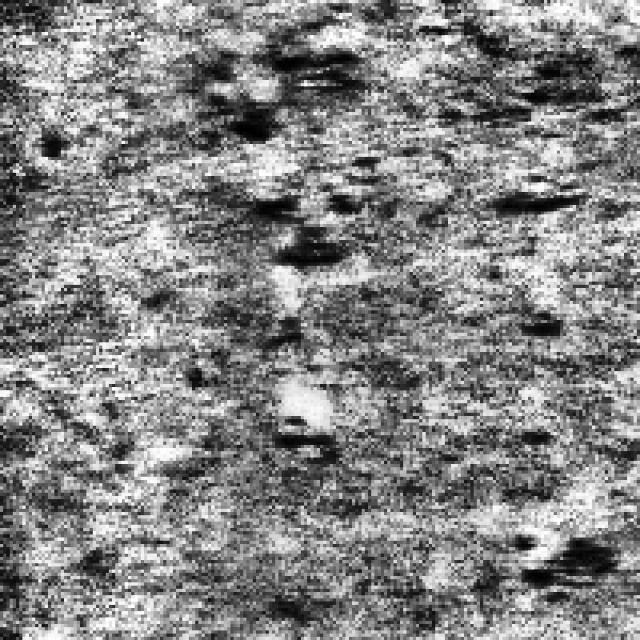Crazing: (227, 29, 365, 448), (509, 512, 621, 602)
